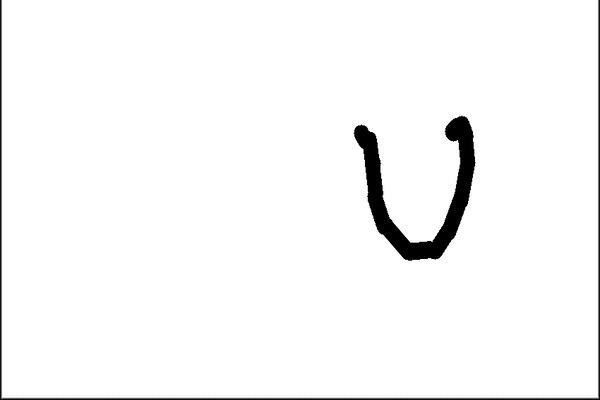U: (342, 101, 480, 273)
